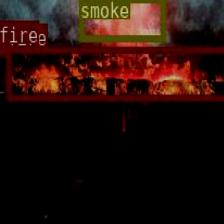fire: (5, 45, 224, 99), (0, 43, 10, 54)
smoke: (78, 0, 164, 40)
